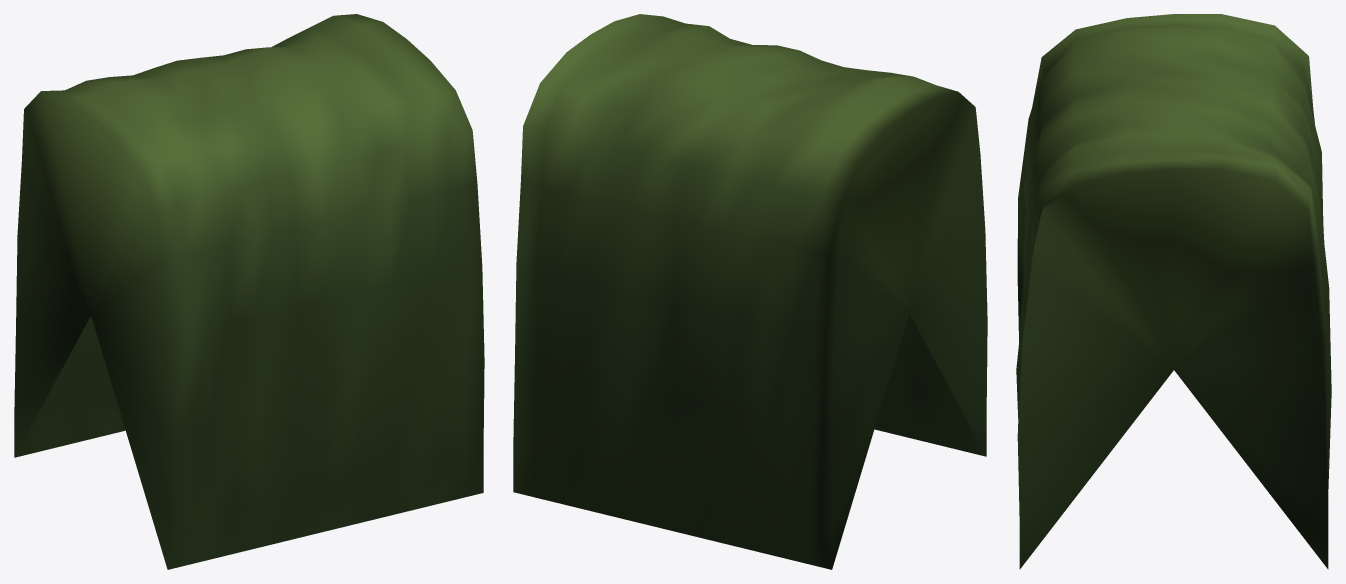
File: hedge-1m.glb
3 renders of one model, left to right at view 1: azimuth 30°, elevation 25°; view 2: azimuth 150°, elevation 25°; view 3: azimuth 270°, elevation 25°, orthographic.
Parts seen in each view (by area): view 1: Hedge1m; view 2: Hedge1m; view 3: Hedge1m.
Boxes of the visible parts, x1,y1,x2,y2 form: Hedge1m: [14, 14, 484, 569]; Hedge1m: [513, 14, 987, 569]; Hedge1m: [1016, 14, 1331, 569].
Bounding box in the file's own units: 1 × 1.23 × 0.8579.
